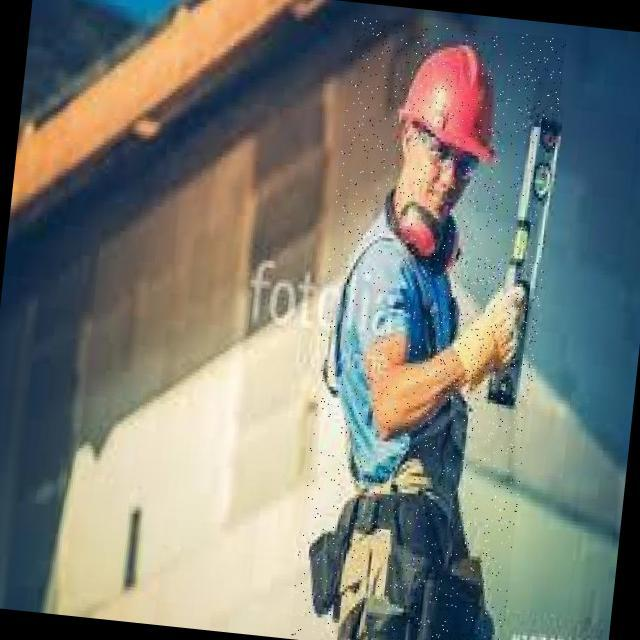Gloves: (445, 278, 536, 394)
Helmet: (387, 30, 510, 170)
Person: (298, 13, 569, 640)
no-vest: (327, 179, 479, 503)
